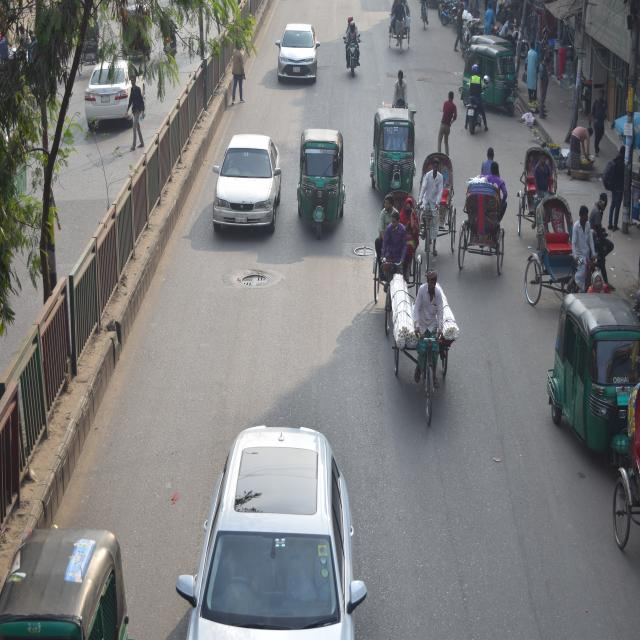car: (176, 426, 362, 640), (210, 133, 285, 230), (81, 59, 149, 137), (276, 18, 319, 87)
motorbike: (458, 69, 486, 142), (342, 21, 362, 83), (439, 0, 463, 28)
